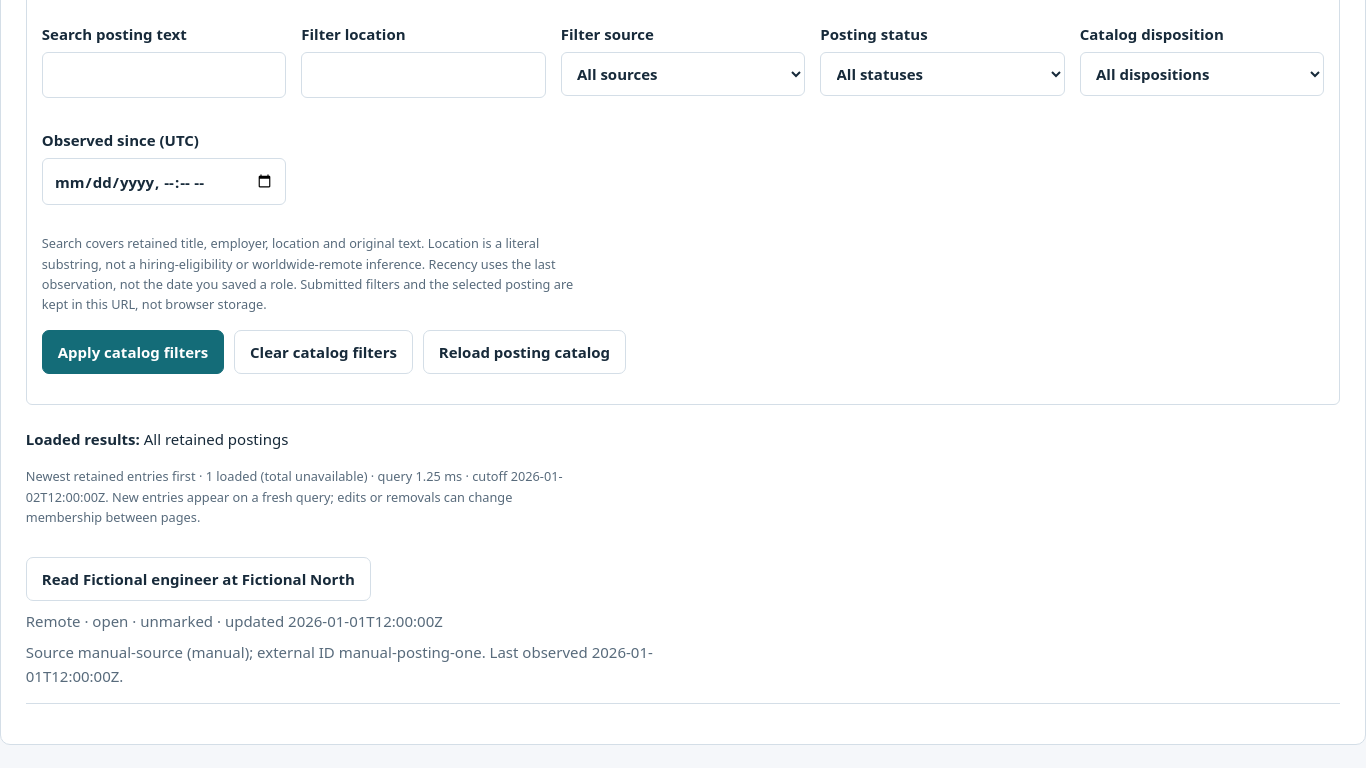
manual postings and retained source history › never renders an unsafe original reference as a clickable link
(page scrolled)
Click the button "Read Fictional engineer at Fictional North" at (198, 579), box x1=26 y1=557 x2=371 y2=601
(page scrolled)
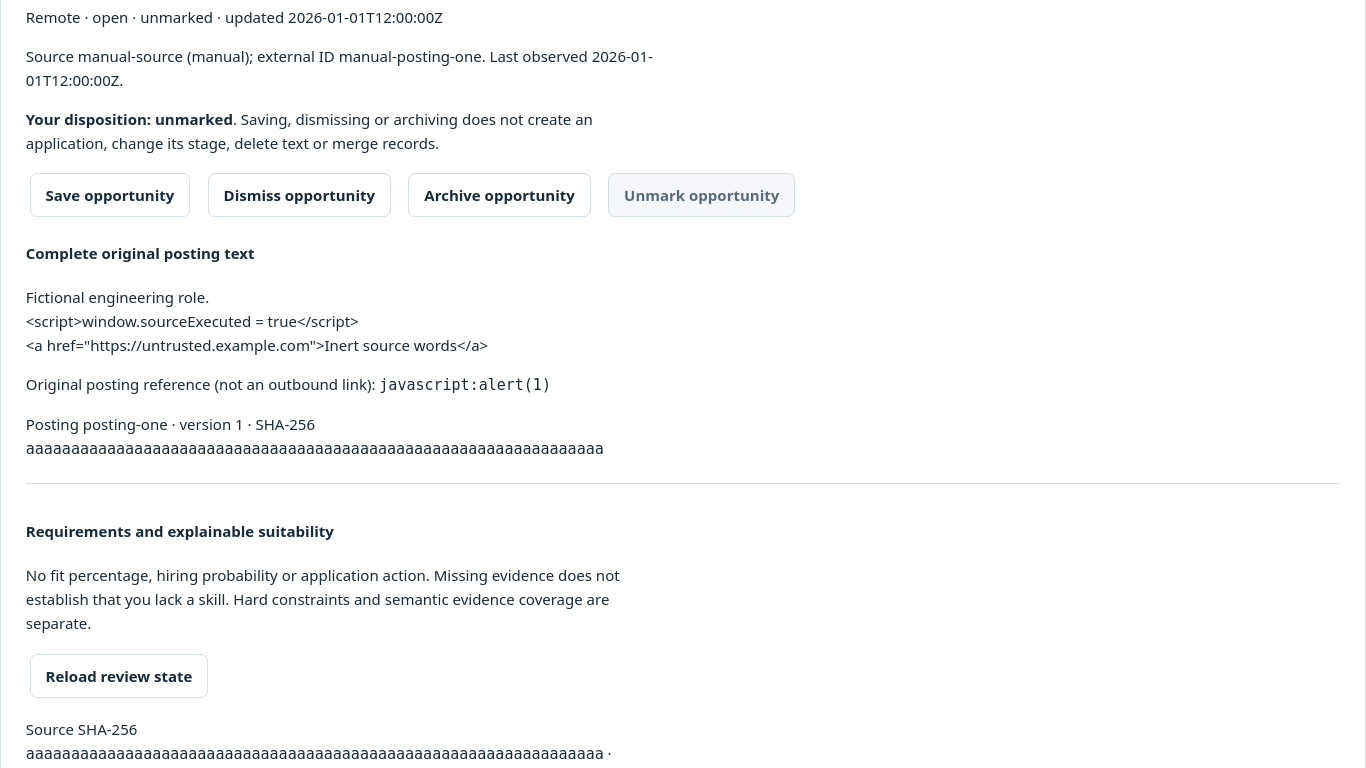
Expected: the text "javascript:alert(1)" is shown, x1=379 y1=376 x2=551 y2=394
